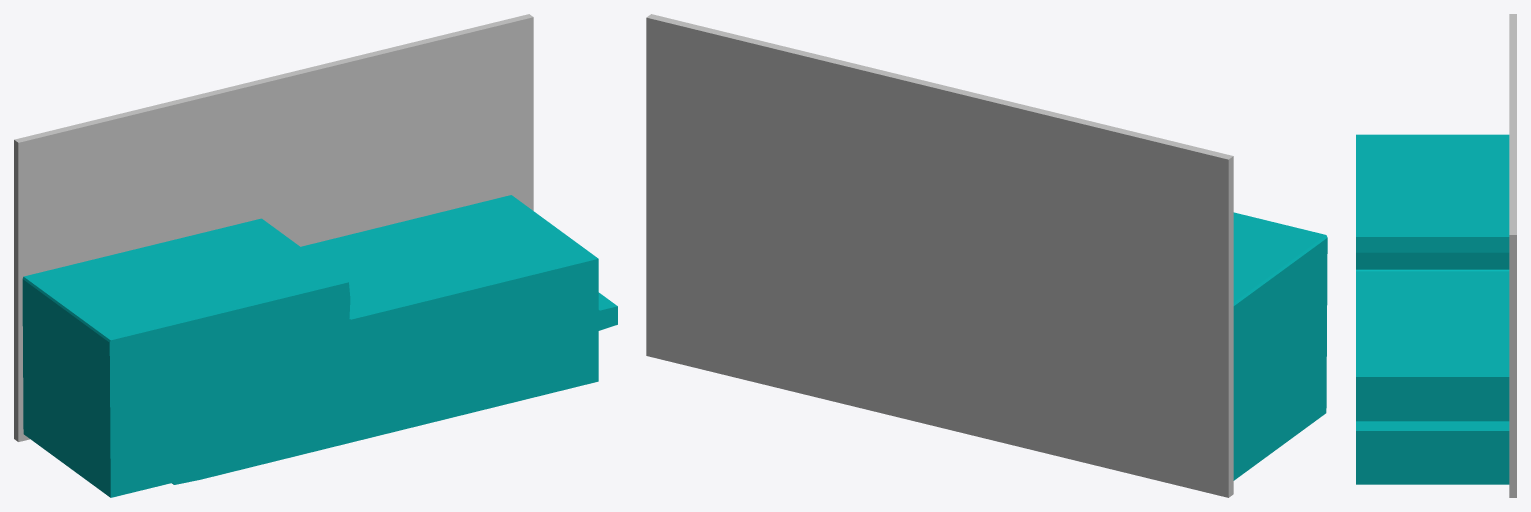
3 renders of one model, left to right at view 1: azimuth 30°, elevation 25°; view 2: azimuth 150°, elevation 25°; view 3: azimuth 270°, elevation 25°, orthographic. The views are drawn at different scales.
Visible parts, largest first — view 1: world; view 2: world; view 3: world.
Part boxes in pixels (x1,y1,x2,y2): world: [14, 14, 617, 497]; world: [646, 14, 1327, 497]; world: [1356, 14, 1516, 497].
Bounding box in the file's own units: 10.23 × 5.68 × 3.15.
